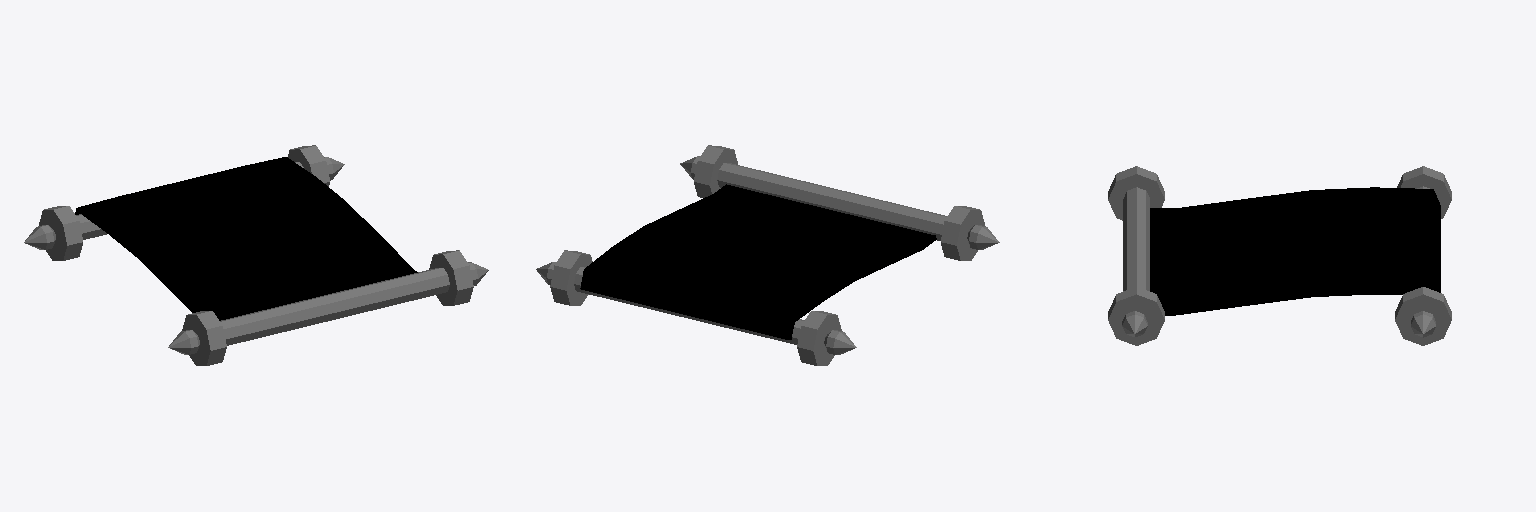
File: scroll_texture.obj
The picture shows the model from 3 angles: view 1: azimuth 30°, elevation 25°; view 2: azimuth 150°, elevation 25°; view 3: azimuth 270°, elevation 25°; orthographic projection.
Parts seen in each view (by area): view 1: scroll pPlane1, scroll pCylinder14, scroll pCylinder6, scroll pCylinder11, pCylinder12 scroll, scroll pCylinder5, scroll pCylinder7, scroll pCylinder10; view 2: scroll pPlane1, scroll pCylinder14, scroll pCylinder6, scroll pCylinder11, scroll pCylinder5, pCylinder12 scroll, scroll pCylinder4, scroll pCylinder7, scroll pCylinder10; view 3: scroll pPlane1, scroll pCylinder14, scroll pCylinder5, pCylinder12 scroll, scroll pCylinder11, scroll pCylinder6.
Part boxes in pixels (bbox=[...]): scroll pPlane1: bbox=[75, 157, 417, 320]; scroll pCylinder14: bbox=[220, 268, 449, 345]; scroll pCylinder6: bbox=[39, 206, 82, 260]; scroll pCylinder11: bbox=[182, 311, 226, 365]; pCylinder12 scroll: bbox=[429, 250, 473, 305]; scroll pCylinder5: bbox=[288, 145, 329, 186]; scroll pCylinder7: bbox=[24, 225, 55, 249]; scroll pCylinder10: bbox=[168, 330, 199, 354]; scroll pPlane1: bbox=[580, 184, 936, 339]; scroll pCylinder14: bbox=[717, 163, 946, 240]; scroll pCylinder6: bbox=[797, 311, 841, 365]; scroll pCylinder11: bbox=[941, 206, 984, 260]; scroll pCylinder5: bbox=[550, 250, 592, 305]; pCylinder12 scroll: bbox=[694, 145, 737, 197]; scroll pCylinder4: bbox=[574, 267, 804, 344]; scroll pCylinder7: bbox=[824, 330, 856, 354]; scroll pCylinder10: bbox=[967, 225, 999, 249]; scroll pPlane1: bbox=[1150, 187, 1440, 315]; scroll pCylinder14: bbox=[1123, 187, 1149, 290]; scroll pCylinder5: bbox=[1395, 287, 1451, 345]; pCylinder12 scroll: bbox=[1108, 287, 1164, 345]; scroll pCylinder11: bbox=[1108, 166, 1164, 220]; scroll pCylinder6: bbox=[1397, 166, 1451, 218].
Size of the model in its own units: 1.1 by 0.17 by 1.02.